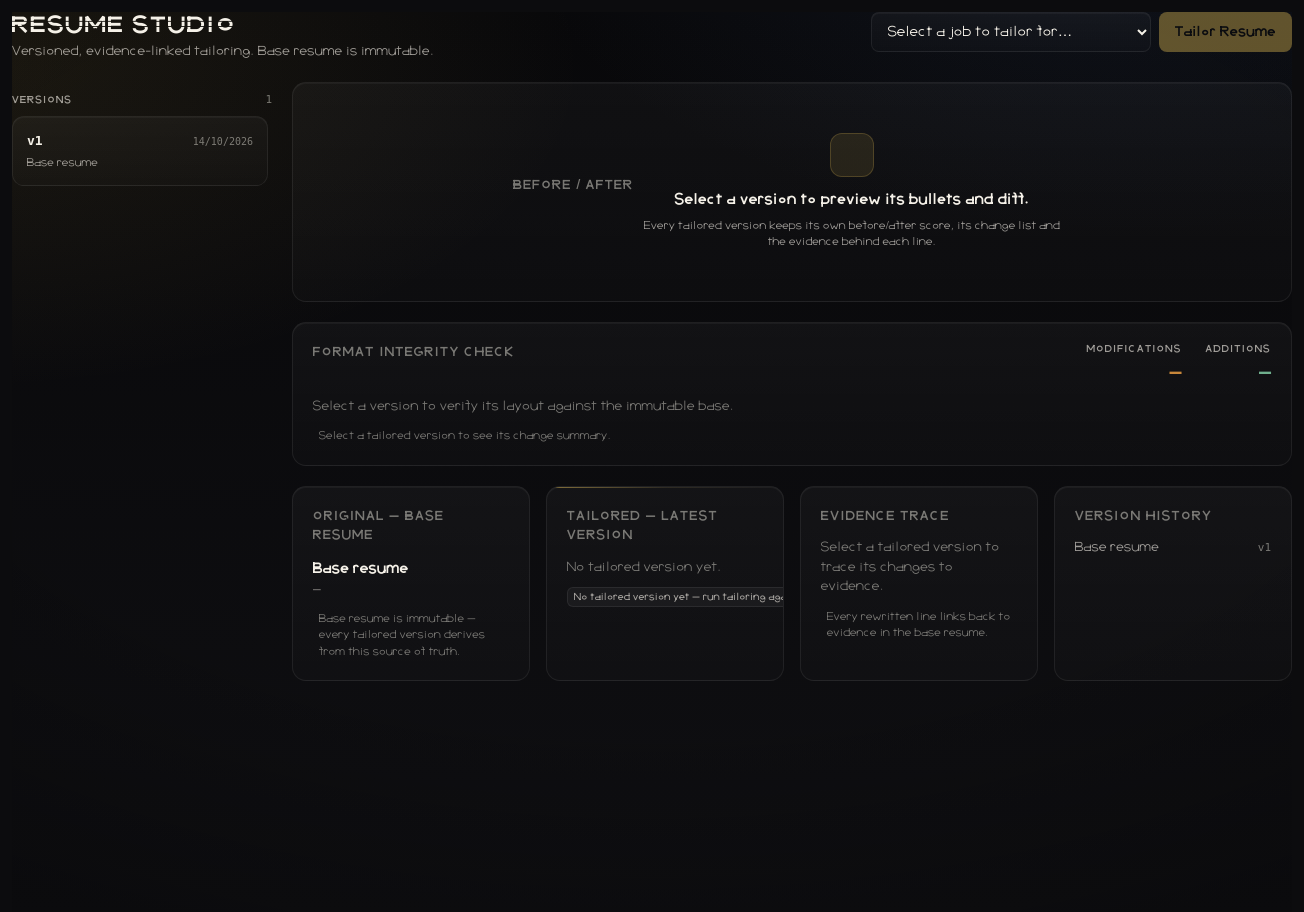
Test: U2b — format-fidelity honesty in Resume Studio › distinguishes genuine docx-native preservation from a bundled-PDF hash match
Click the button with test id "resume-version-card" at (140, 151), box [12,116,268,186]
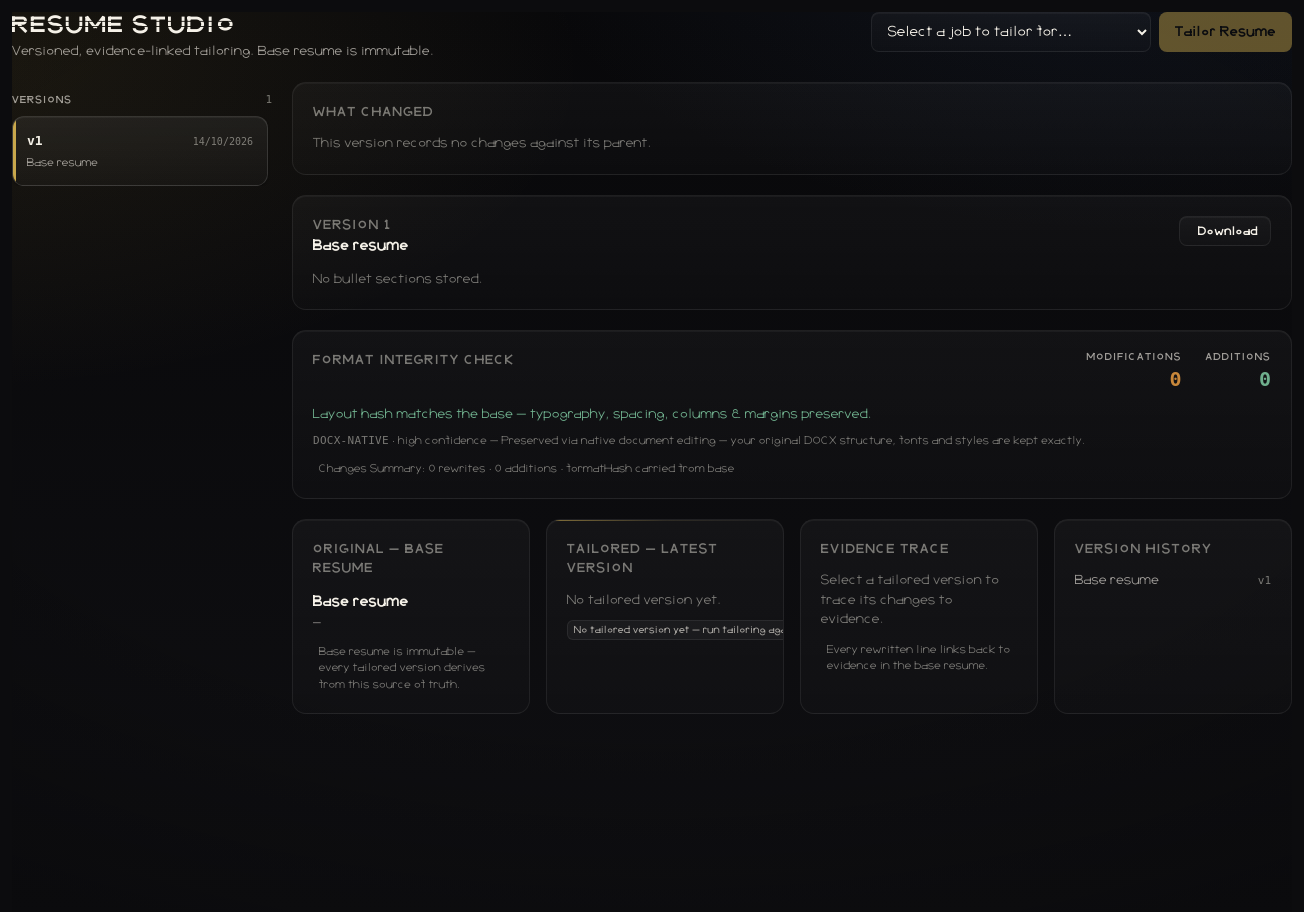
expect the element with test id "format-fidelity-detail" does not show "layout hash matches the base": met
expect the element with test id "format-fidelity-detail" shows "native document editing": met, box [502,435,1086,446]
